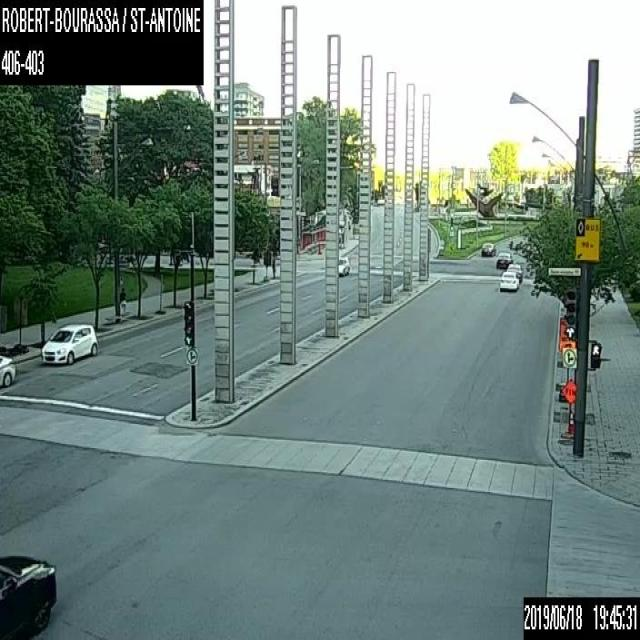construction: (558, 316, 574, 399), (560, 380, 574, 437)
pedestrian: (118, 285, 126, 312)
vehicle: (0, 554, 56, 638), (40, 322, 98, 363), (0, 353, 15, 388), (498, 270, 519, 290), (506, 262, 523, 281), (496, 251, 512, 268), (338, 256, 350, 275), (481, 241, 495, 256)
